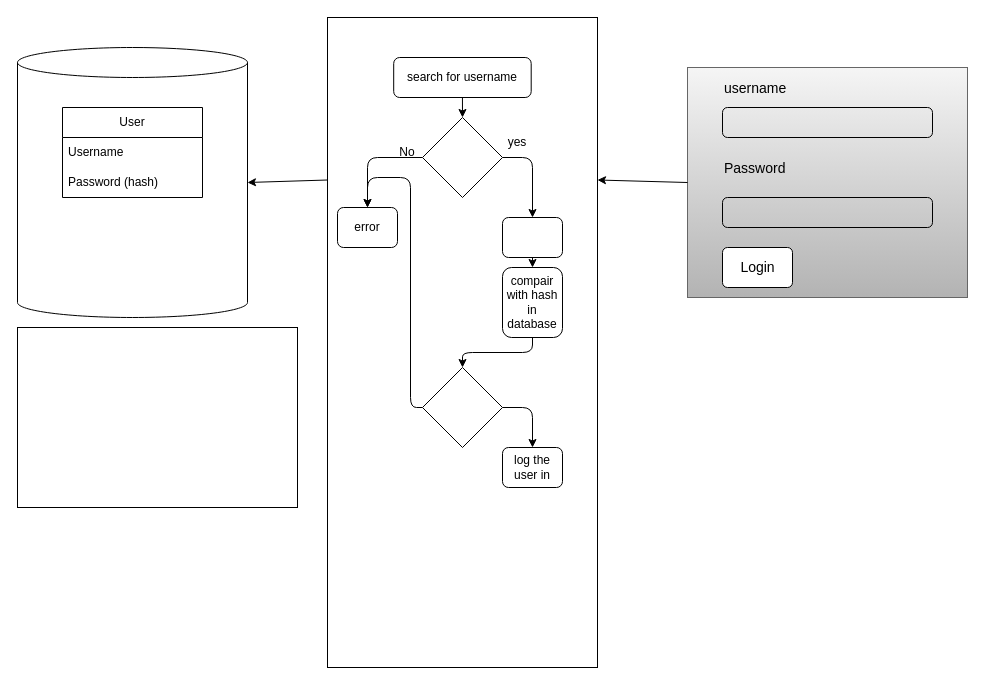
Image size: 985x685. Some labels were removed from this diagram. The box of each missing label's shape, as (x1, y1, x2, y2) in pixels:
authenticate: (422, 366, 502, 448)
found: (422, 116, 502, 198)
hash input password: (502, 216, 562, 258)
